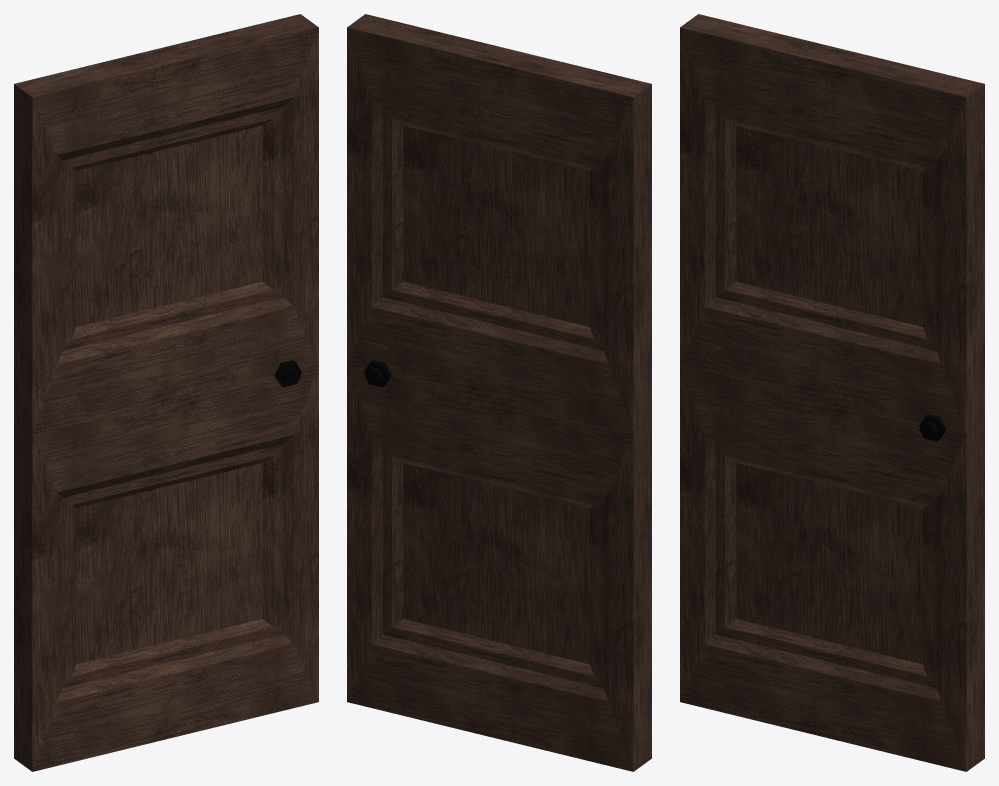
Rendered from SM_Door.fbx.
3 views of the same model, side by side, from view 1: azimuth 30°, elevation 25°; view 2: azimuth 150°, elevation 25°; view 3: azimuth 330°, elevation 25° (orthographic).
Visible parts, largest first — view 1: SM_Door; view 2: SM_Door; view 3: SM_Door.
Part boxes in pixels (x1,y1,x2,y2): SM_Door: [14, 14, 318, 771]; SM_Door: [347, 14, 651, 771]; SM_Door: [680, 14, 984, 771].
Size of the model in its own units: 100 by 225 by 19.32.
